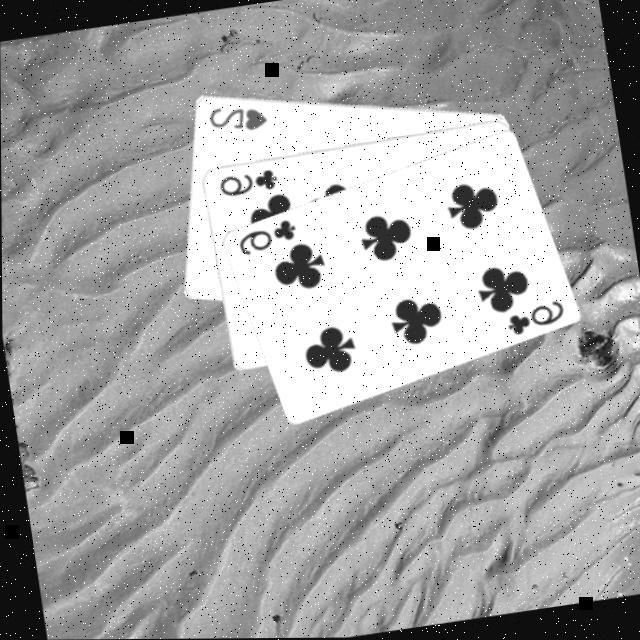2H: (205, 99, 272, 141)
6C: (233, 216, 301, 261), (501, 298, 569, 342)
9C: (215, 166, 282, 202)
